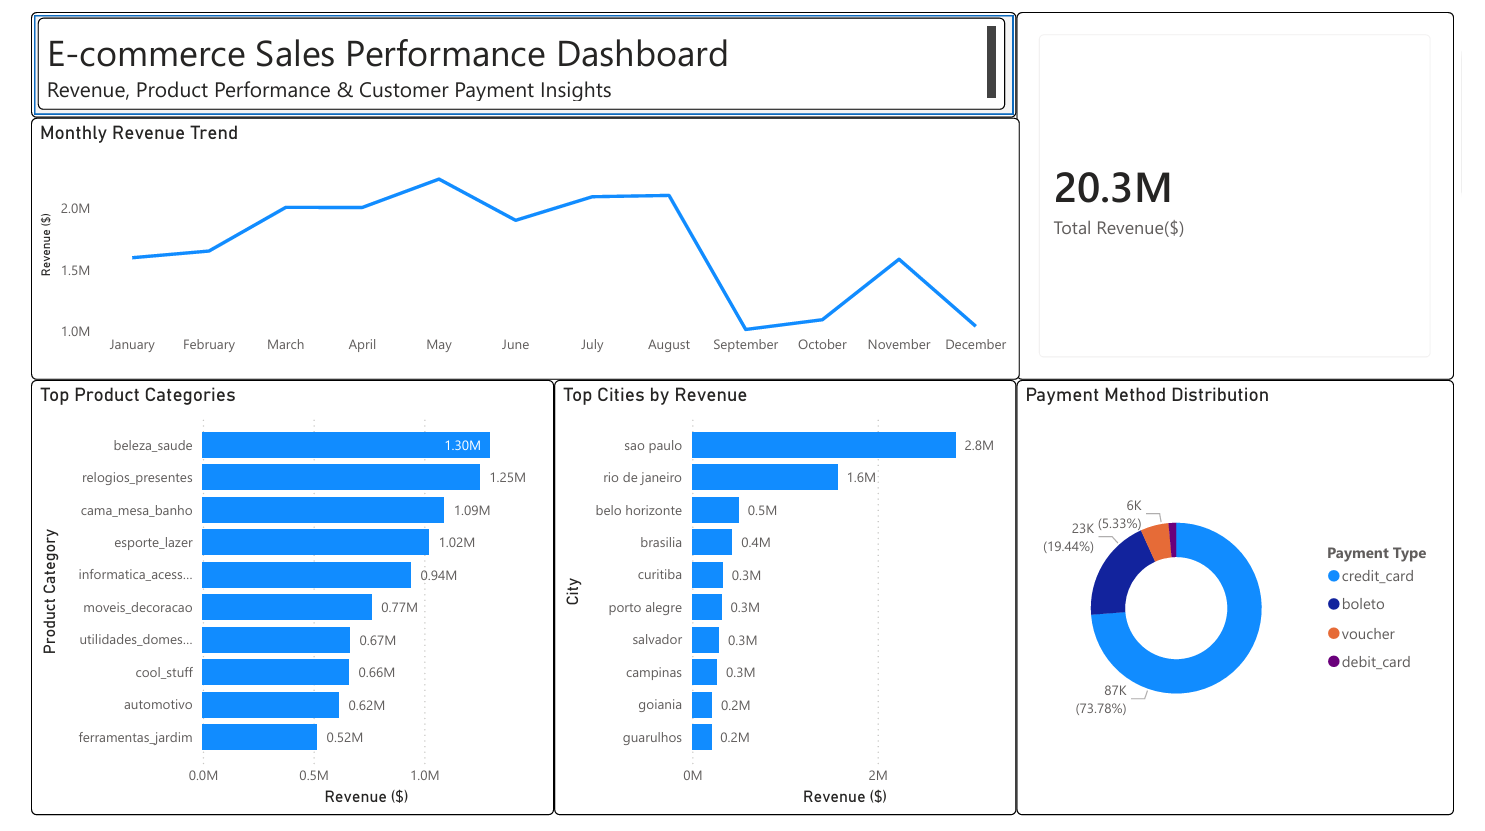

This screenshot's page, from the dashboard's own definition file:
{"tool":"powerbi","page":{"name":"Page 1","canvas":[1280,720],"ordinal":0},"visuals":[{"type":"cardVisual","fields":{"Data":["Sum(monthly_revenue.revenue)"]},"box":[884.4,0,388.3,327.3],"z":0},{"type":"clusteredBarChart","title":"Top Product Categories","fields":{"Category":["category_revenue.product_category_name"],"Y":["Sum(category_revenue.revenue)"]},"box":[7.8,326.8,464.9,387],"z":2000},{"type":"lineChart","title":"Monthly Revenue Trend","fields":{"Category":["monthly_revenue.month.Variation.Date Hierarchy.Month"],"Y":["Sum(monthly_revenue.revenue)"]},"box":[7.8,93.5,879.2,233.8],"z":2500},{"type":"clusteredBarChart","title":"Top Cities by Revenue","fields":{"Category":["city_revenue.customer_city"],"Y":["Sum(city_revenue.revenue)"]},"box":[472.7,326.8,411.7,387],"z":3000},{"type":"shape","box":[7.8,0,876.6,93.5],"z":3500},{"type":"textbox","box":[14.3,5.2,859.7,81.8],"z":4000},{"type":"donutChart","title":"Payment Method Distribution","fields":{"Category":["payment_distribution.payment_type"],"Y":["Sum(payment_distribution.transactions)"]},"box":[884.4,326.8,388.3,387],"z":5000}]}

Visuals, with their boxes in screenshot pixels (x1, y1, x2, y2), scaled from the page's 1280x720 canvas onto the 1485x831 screenshot:
cardVisual - Sum(monthly_revenue.revenue): 1026:0:1477:378
"Top Product Categories" clusteredBarChart: 9:377:548:824
"Monthly Revenue Trend" lineChart: 9:108:1029:378
"Top Cities by Revenue" clusteredBarChart: 548:377:1026:824
shape: 9:0:1026:108
textbox: 17:6:1014:100
"Payment Method Distribution" donutChart: 1026:377:1477:824
